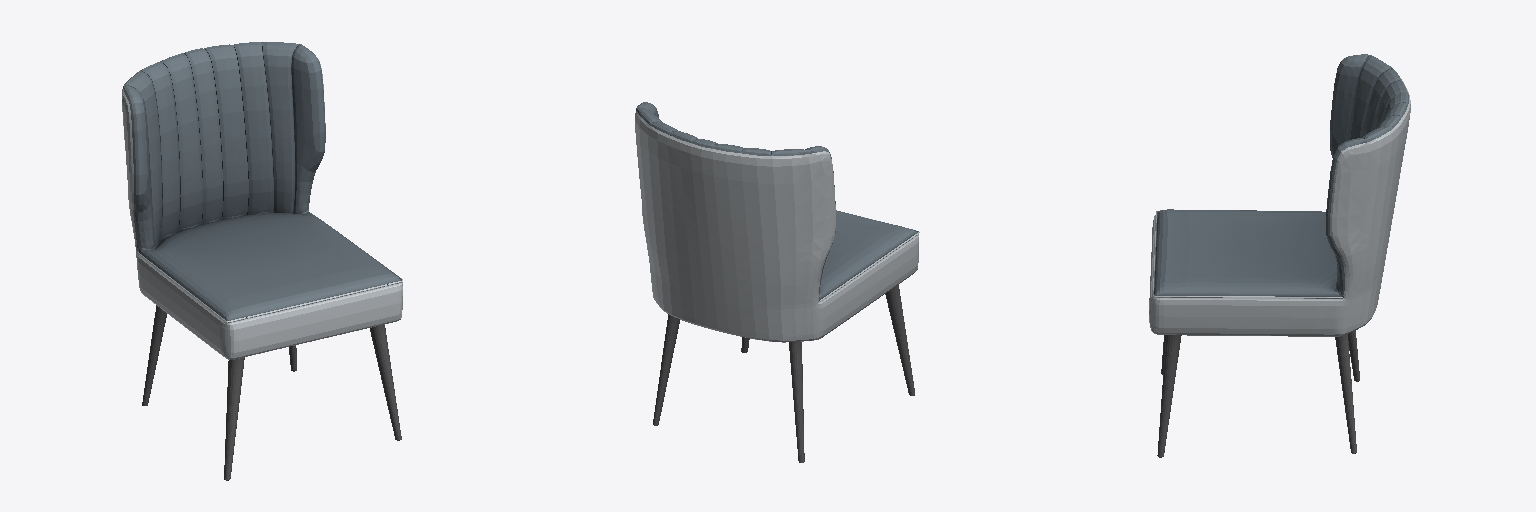
3 views of the same model, side by side, from view 1: azimuth 30°, elevation 25°; view 2: azimuth 150°, elevation 25°; view 3: azimuth 270°, elevation 25° (orthographic).
Visible parts, largest first — view 1: solid_002, solid_001, solid_003; view 2: solid_001, solid_002, solid_003; view 3: solid_002, solid_001, solid_003.
Part boxes in pixels (x1,y1,x2,y2): solid_002: (123,42,401,320); solid_001: (122,59,402,359); solid_003: (142,305,401,480); solid_001: (635,111,919,342); solid_002: (636,102,918,300); solid_003: (653,285,914,462); solid_002: (1153,54,1408,296); solid_001: (1149,82,1410,336); solid_003: (1157,330,1359,457).
Bounding box in the file's own units: 0.9176 × 1.46 × 1.08.
1 materials, 1 textured.